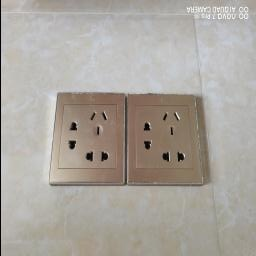outlet: (44, 88, 124, 188), (126, 92, 204, 188)
